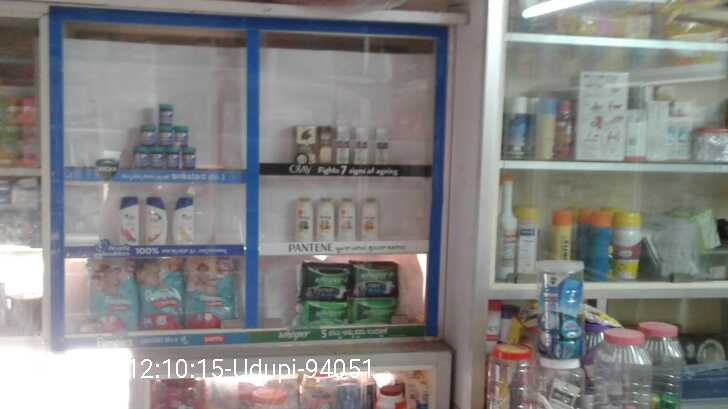beauty: (118, 191, 141, 245), (142, 196, 168, 243), (291, 123, 315, 166), (174, 195, 196, 241), (337, 195, 358, 243), (332, 123, 353, 169), (293, 198, 315, 241), (316, 197, 337, 242), (360, 194, 380, 241), (349, 129, 369, 166), (373, 124, 388, 165), (316, 126, 330, 166)
pharmacy: (86, 257, 137, 339), (134, 253, 182, 329), (187, 257, 232, 328), (299, 265, 347, 298), (351, 261, 391, 294), (302, 297, 346, 325), (352, 299, 397, 322), (138, 123, 153, 146), (148, 147, 163, 169), (182, 147, 197, 168), (167, 147, 180, 171), (158, 127, 171, 148), (160, 104, 172, 126), (174, 126, 187, 145), (133, 148, 146, 167)
